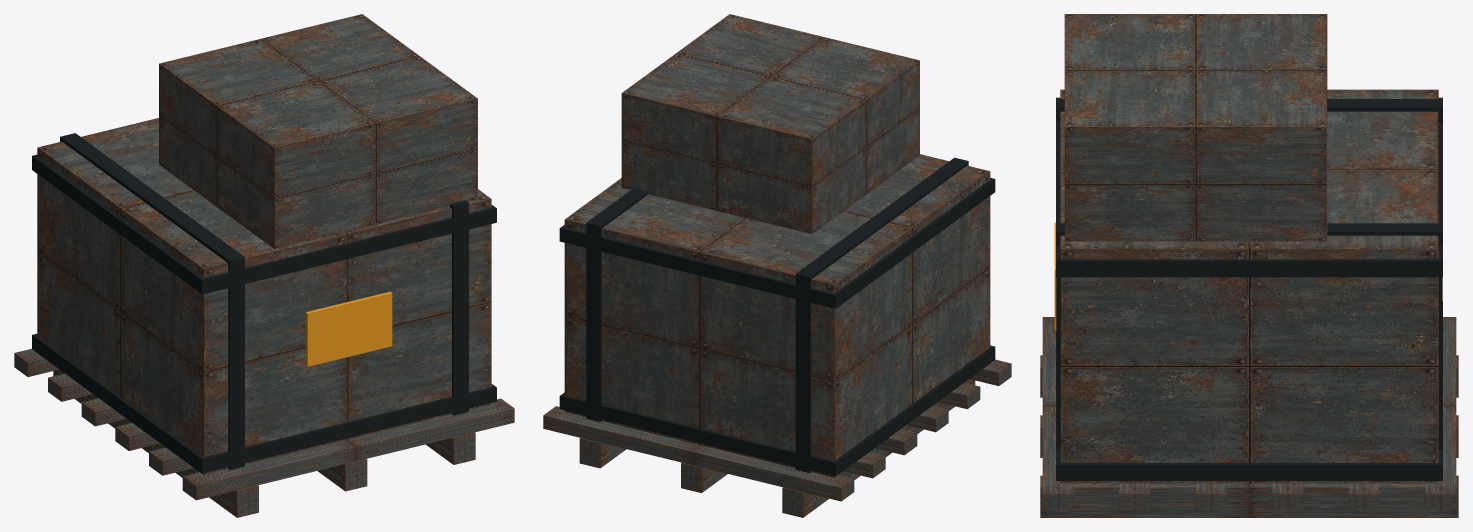
File: CargoStack.obj
3 renders of one model, left to right at view 1: azimuth 30°, elevation 25°; view 2: azimuth 150°, elevation 25°; view 3: azimuth 270°, elevation 25°, orthographic. The views are drawn at different scales.
Parts seen in each view (by area): view 1: CargoStack; view 2: CargoStack; view 3: CargoStack.
Boxes of the visible parts, x1,y1,x2,y2 form: CargoStack: [14, 14, 514, 517]; CargoStack: [543, 14, 1011, 517]; CargoStack: [1040, 14, 1458, 517].
Bounding box in the file's own units: 1.88 × 1.98 × 1.88.
Materials: 4 (2 with a texture image).
